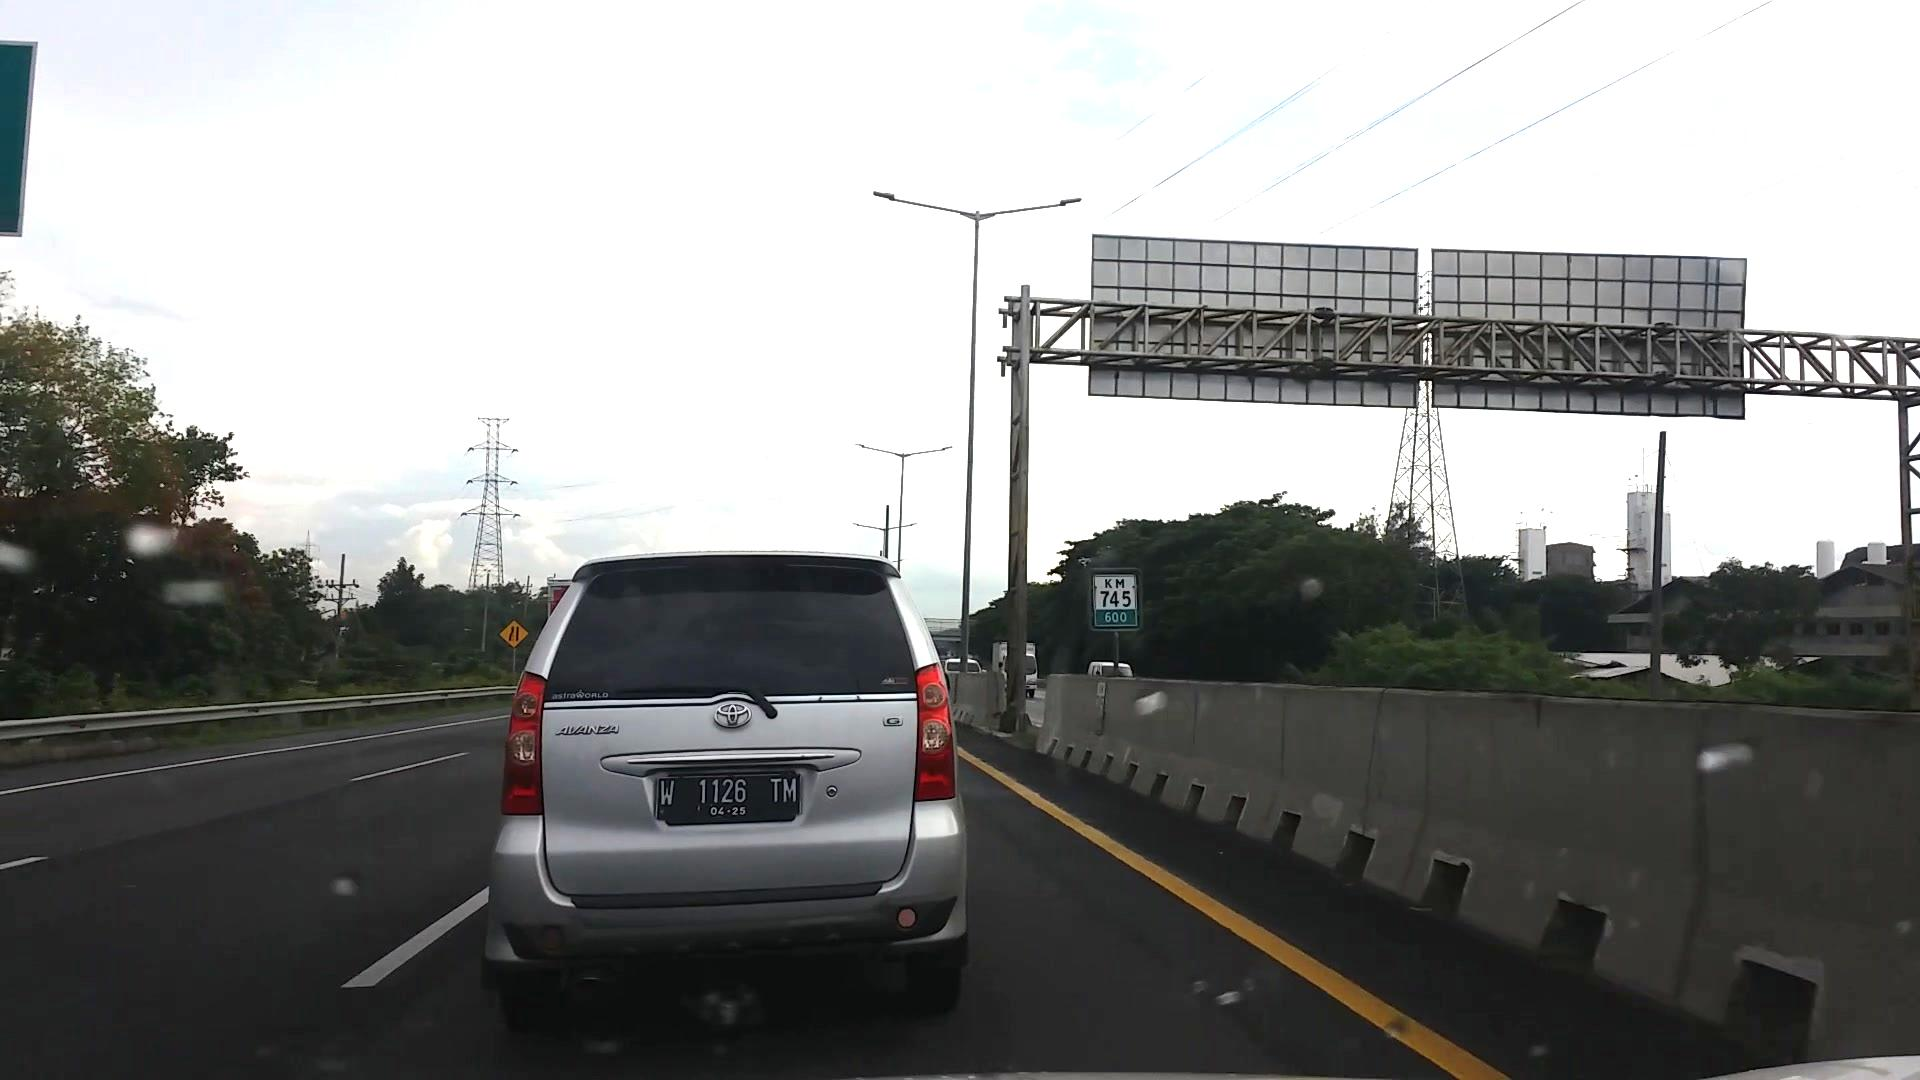plate_positive: (655, 775, 800, 818)
